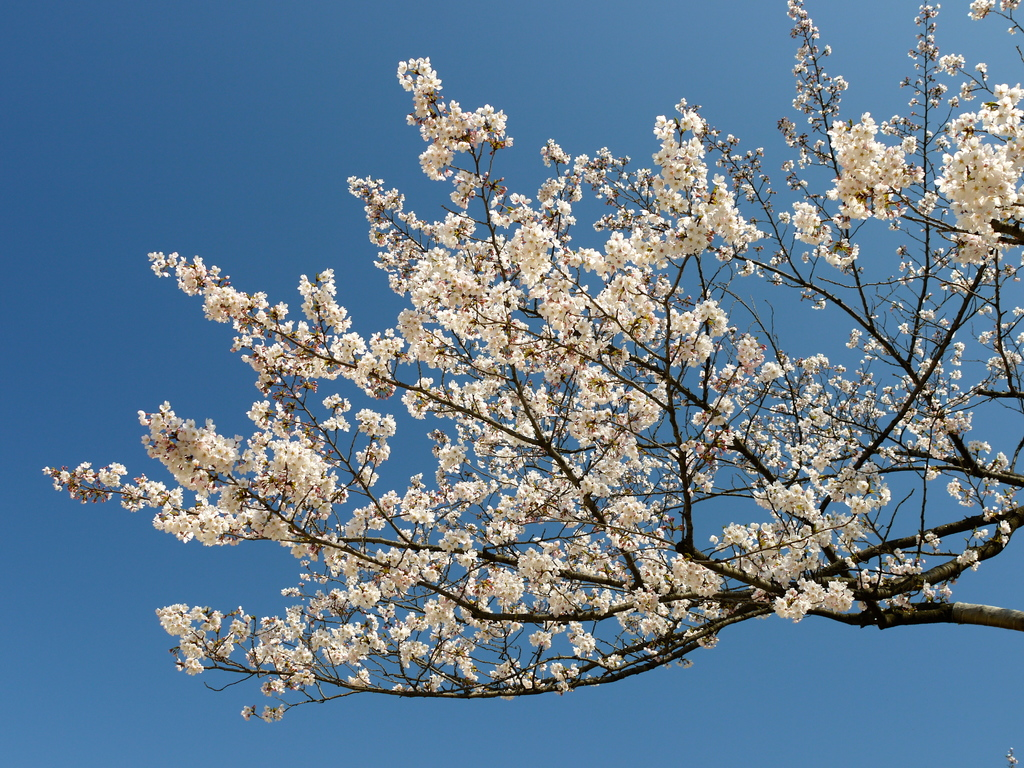Tree: (83, 32, 1024, 728)
